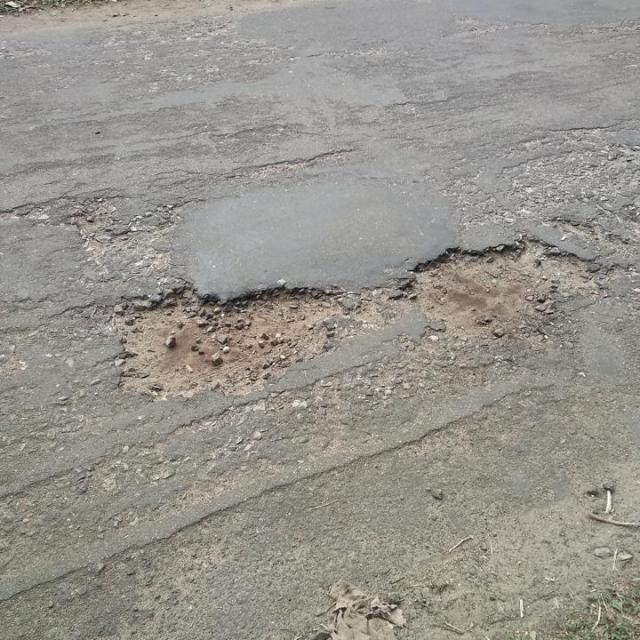major_pothole: (107, 280, 366, 402)
medium_pothole: (391, 233, 607, 341)
